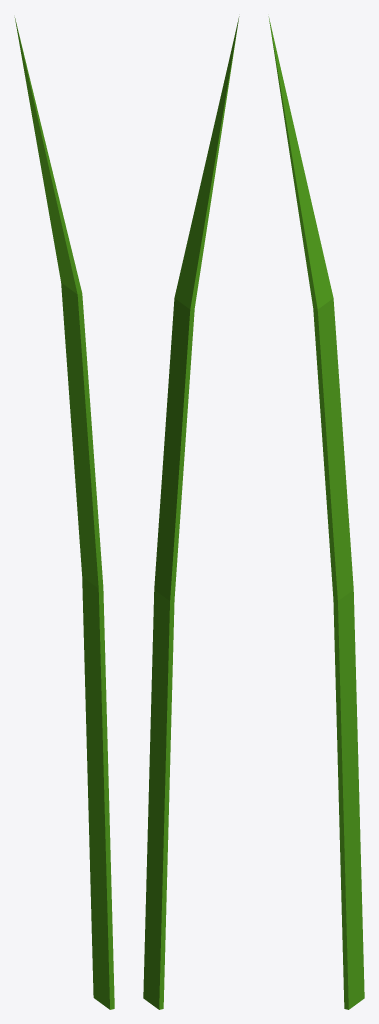
File: GrassSingle_a_06.fbx
3 renders of one model, left to right at view 1: azimuth 30°, elevation 25°; view 2: azimuth 210°, elevation 25°; view 3: azimuth 330°, elevation 25°, orthographic. The views are drawn at different scales.
Visible parts, largest first — view 1: GrassSingle_a_06_LOD0; view 2: GrassSingle_a_06_LOD0; view 3: GrassSingle_a_06_LOD0.
Boxes of the visible parts, box(x1,y1,x2,y2) form: GrassSingle_a_06_LOD0: box(14, 17, 114, 1009); GrassSingle_a_06_LOD0: box(143, 16, 239, 1009); GrassSingle_a_06_LOD0: box(268, 16, 364, 1009).
Size of what is drawn, in the model's own units: 2.92 by 30.54 by 0.9064.
